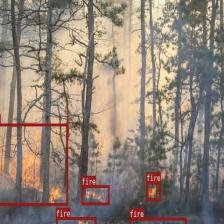fire: (0, 123, 68, 205), (81, 185, 109, 205), (129, 217, 186, 224), (56, 216, 96, 224), (146, 182, 160, 200)
